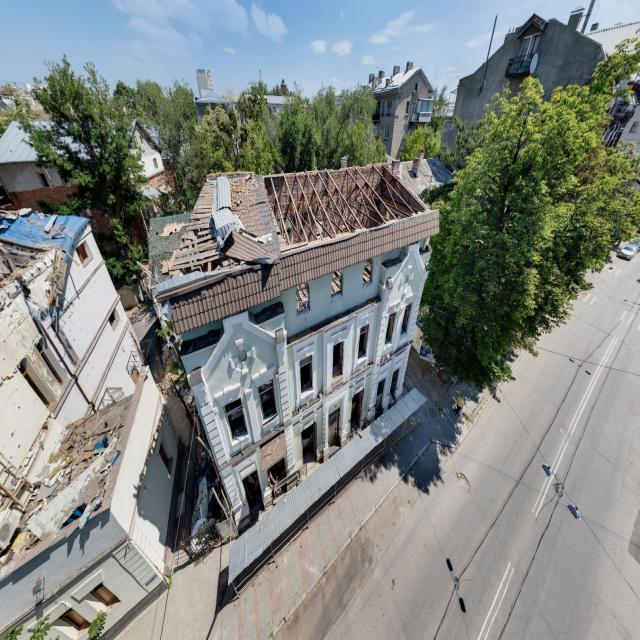broken_window: (223, 398, 249, 444), (258, 380, 278, 424), (299, 355, 313, 394), (328, 406, 340, 449), (356, 323, 369, 362), (332, 340, 344, 379), (384, 311, 396, 346), (399, 302, 411, 336)
building: (150, 159, 440, 531), (439, 8, 608, 166), (370, 63, 436, 161)
